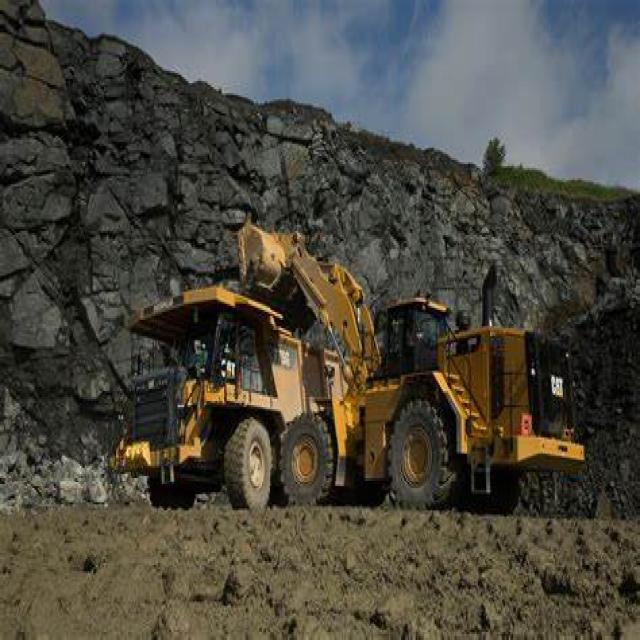dump_truck: (116, 268, 307, 500)
